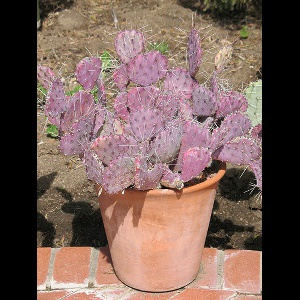flowerpot: (95, 147, 227, 291)
